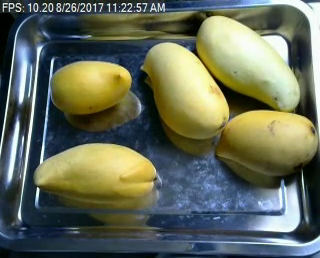Mango: (197, 15, 300, 111), (142, 42, 229, 138), (36, 143, 156, 201), (219, 109, 318, 173), (49, 60, 131, 115)
